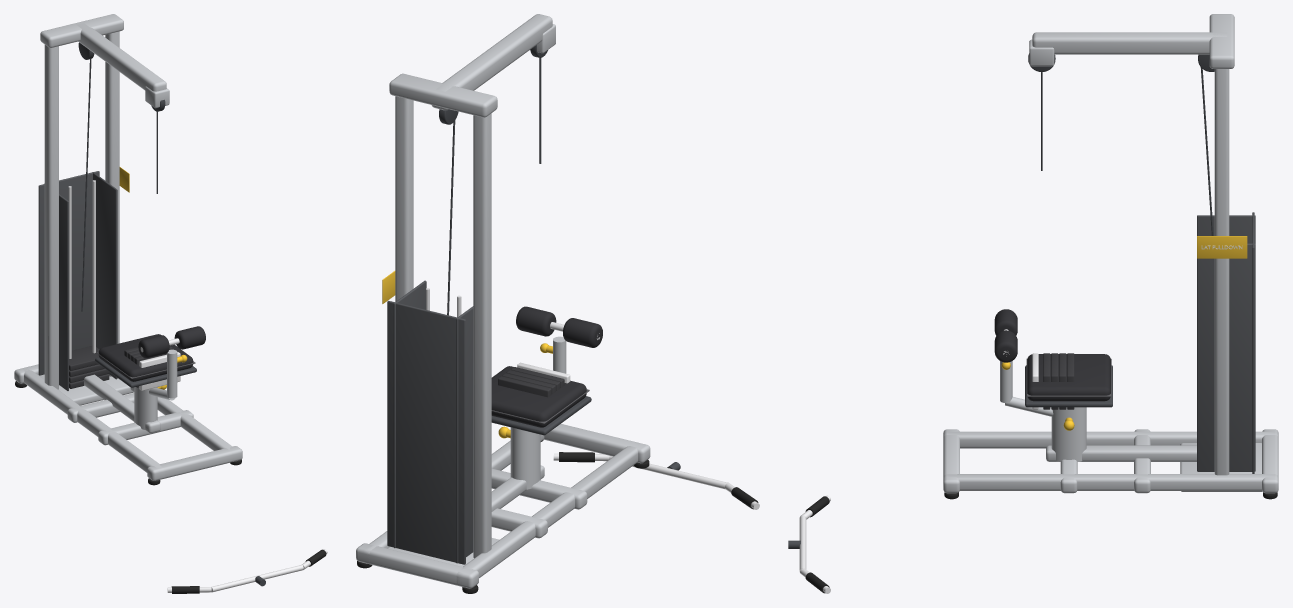
File: LatPulldown.fbx
3 renders of one model, left to right at view 1: azimuth 30°, elevation 25°; view 2: azimuth 150°, elevation 25°; view 3: azimuth 270°, elevation 25°, orthographic. The views are drawn at different scales.
Parts seen in each view (by area): view 1: Shroud_Back, Tower_Post_L, Shroud_Side_R, Tower_Post_R, Base_Rail_L, Top_Beam, Shroud_Side_L, Seat, Base_Cross_1, Tower_Top, Base_Rail_R, Seat_Rail (+14 smaller); view 2: Shroud_Back, Tower_Post_L, Tower_Post_R, Base_Rail_L, Top_Beam, Seat, Shroud_Side_L, Tower_Top, Base_Cross_4, Base_Cross_1, Seat_Column, Shroud_Side_R (+9 smaller); view 3: Shroud_Side_R, Tower_Post_R, Base_Rail_R, Top_Beam, Base_Rail_L, Seat, Seat_Rail, Seat_Column, Tower_Top, Placard, Base_Cross_1, Base_Cross_4 (+6 smaller).
Part boxes in pixels (x1,y1,x2,y2): Shroud_Back: (38,171,99,375); Tower_Post_L: (44,45,58,389); Shroud_Side_R: (92,172,117,379); Tower_Post_R: (105,31,119,376); Base_Rail_L: (22,367,164,479); Top_Beam: (76,23,166,91); Shroud_Side_L: (44,183,68,390); Seat: (98,334,193,381); Base_Cross_1: (147,446,242,480); Tower_Top: (40,14,123,47); Base_Rail_R: (130,387,237,461); Seat_Rail: (83,374,160,433); Shroud_Back: (387,300,465,564); Tower_Post_L: (473,113,491,558); Tower_Post_R: (395,96,413,301); Base_Rail_L: (456,442,641,587); Top_Beam: (431,14,552,110); Seat: (491,366,586,427); Shroud_Side_L: (456,306,473,563); Tower_Top: (389,73,497,117); Base_Cross_4: (356,543,478,588); Base_Cross_1: (544,424,650,463); Seat_Column: (510,427,540,489); Shroud_Side_R: (393,280,426,548); Shroud_Side_R: (1197,243,1255,471); Tower_Post_R: (1214,69,1229,475); Base_Rail_R: (943,474,1277,490); Top_Beam: (1032,32,1227,54); Base_Rail_L: (943,431,1277,448); Seat: (1027,354,1110,401); Seat_Rail: (1046,445,1196,461); Seat_Column: (1051,407,1086,461); Tower_Top: (1209,14,1234,68); Placard: (1197,236,1247,258); Base_Cross_1: (943,429,959,493); Base_Cross_4: (1262,429,1278,493).
Bounding box in the file's own units: 1.06 × 2.71 × 2.34.
